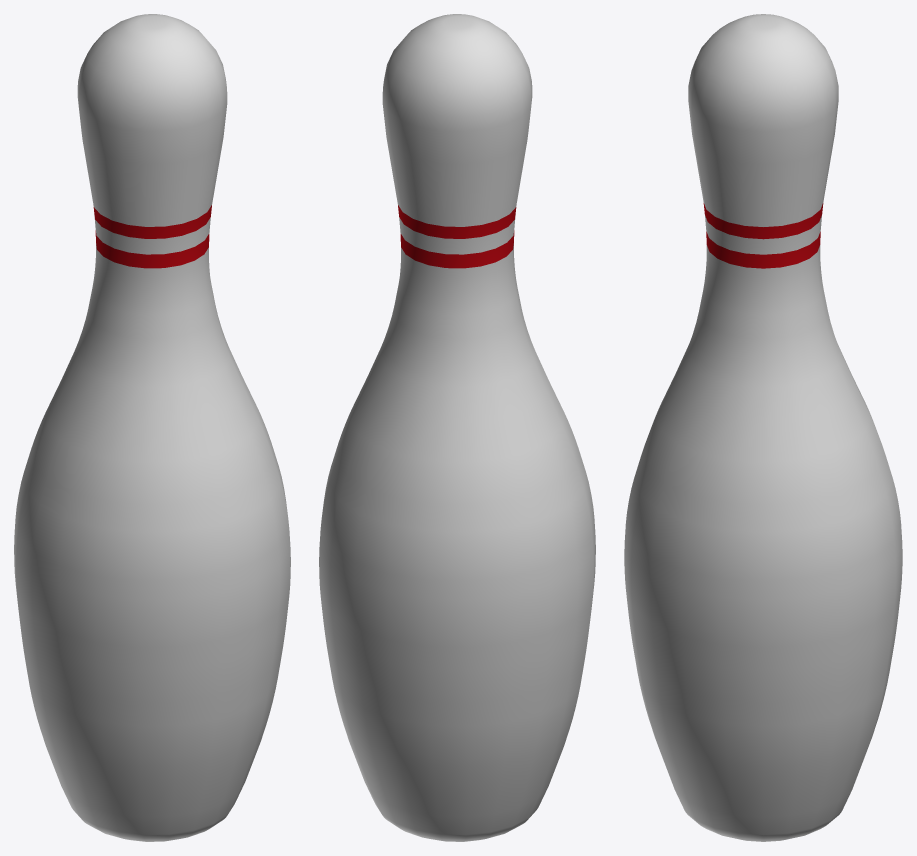
File: pin.gltf
3 renders of one model, left to right at view 1: azimuth 30°, elevation 25°; view 2: azimuth 150°, elevation 25°; view 3: azimuth 270°, elevation 25°, orthographic.
Visible parts, largest first — view 1: pin; view 2: pin; view 3: pin.
Part boxes in pixels (x1=…): pin: x1=14, y1=14, x2=290, y2=841; pin: x1=319, y1=14, x2=595, y2=841; pin: x1=624, y1=14, x2=902, y2=841.
Size of the model in its own units: 0.12 by 0.38 by 0.12.
